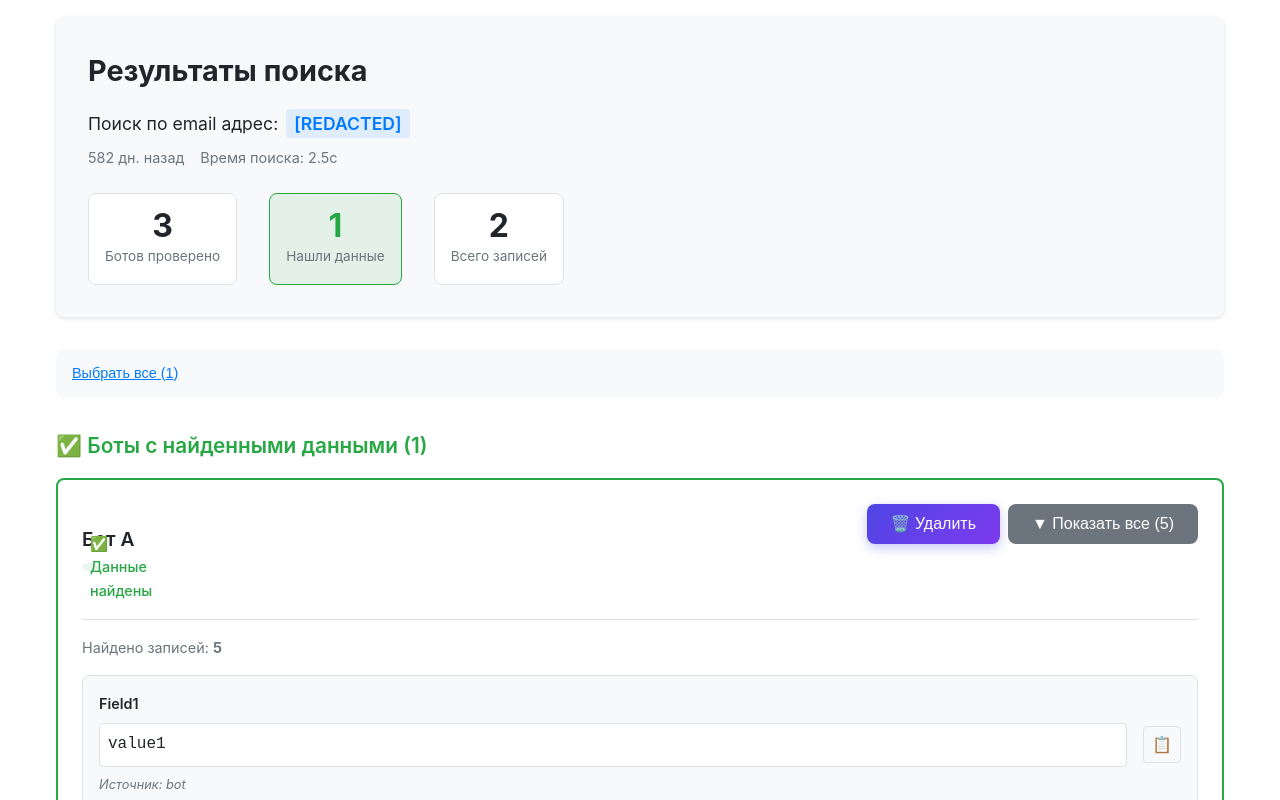
it: ResultsDisplay › Data field interactions › expands bot data when expand button is clicked
Click the button "▼ Показать все (5)": (1103, 524) [1008, 504, 1198, 544]
(page scrolled)
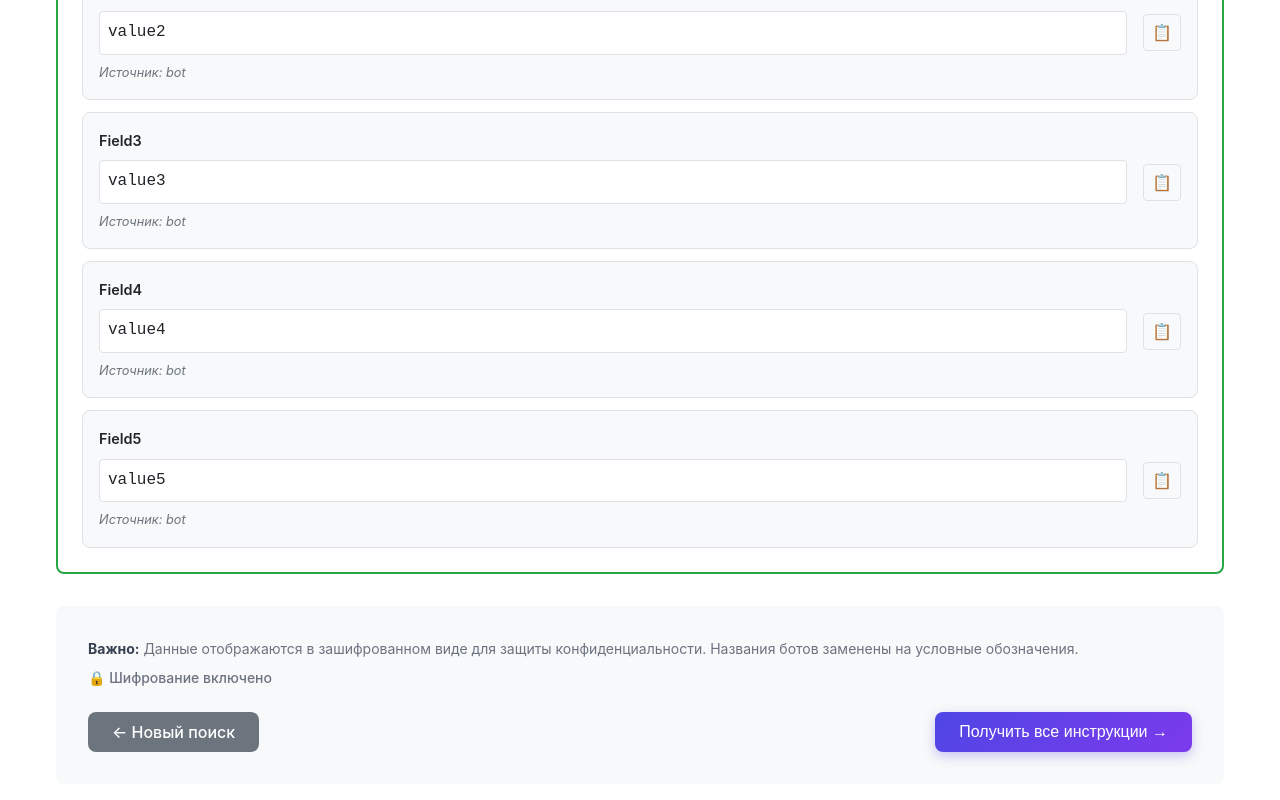
Result: the text "field4" is shown at [99, 278, 142, 301]
Result: the text "field5" is shown at [99, 428, 141, 450]
